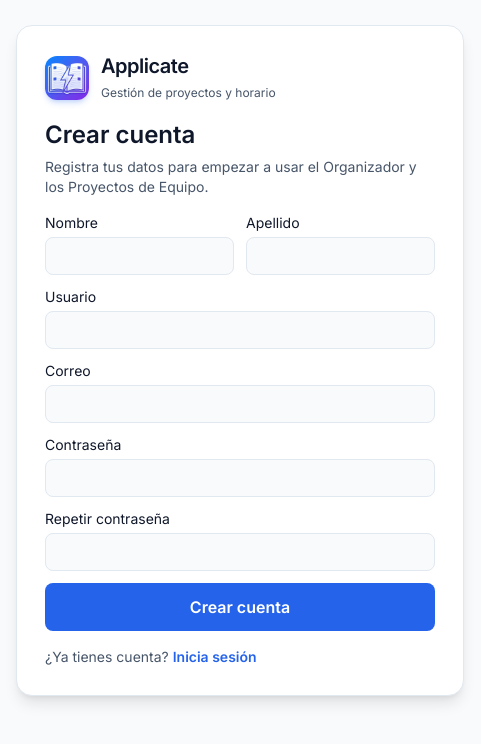
RegisterPage › muestra el error devuelto por describeError en role='alert' si register falla
Type "Matías" into the field labelled "Nombre" at (140, 256), box [45,236,234,274]
Type "González" into the field labelled "Apellido" at (340, 256), box [246,236,435,274]
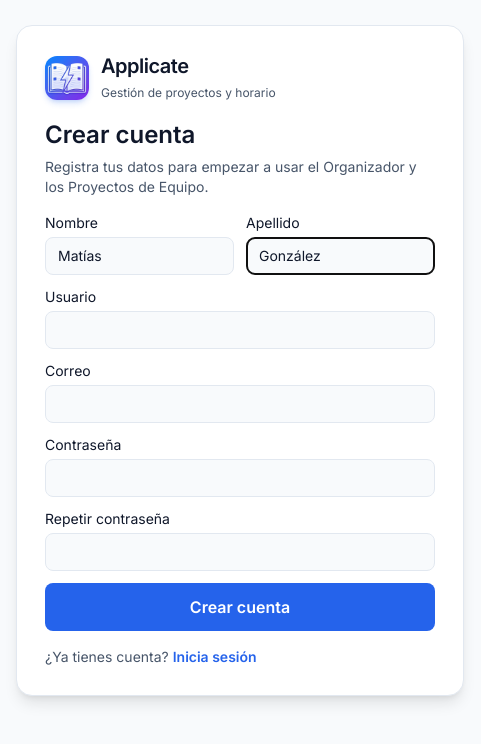
Type "mgonzalez" into the field labelled "Usuario" at (240, 330), box [45,310,435,348]
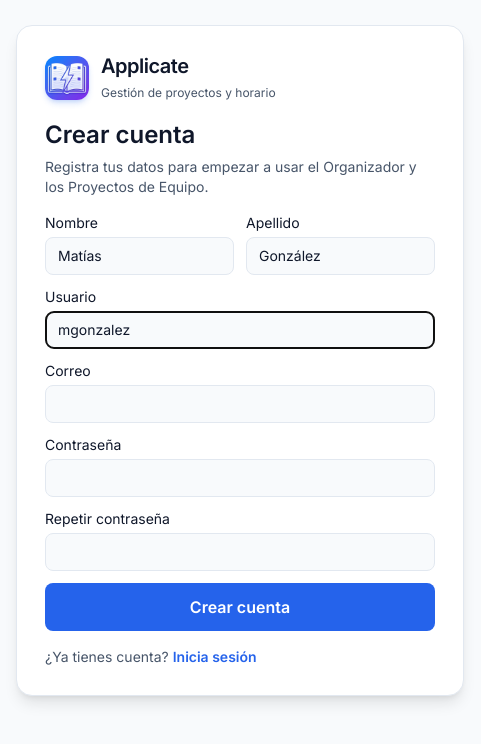
Type "mgonzalez@uc.cl" into the field labelled "Correo" at (240, 404), box [45,384,435,422]
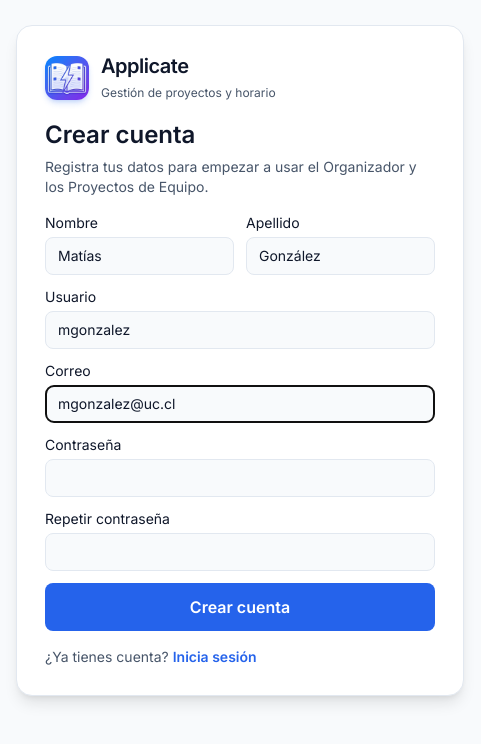
Type "ClaveSegura1" into the password field labelled "Contraseña" at (240, 478), box [45,458,435,496]
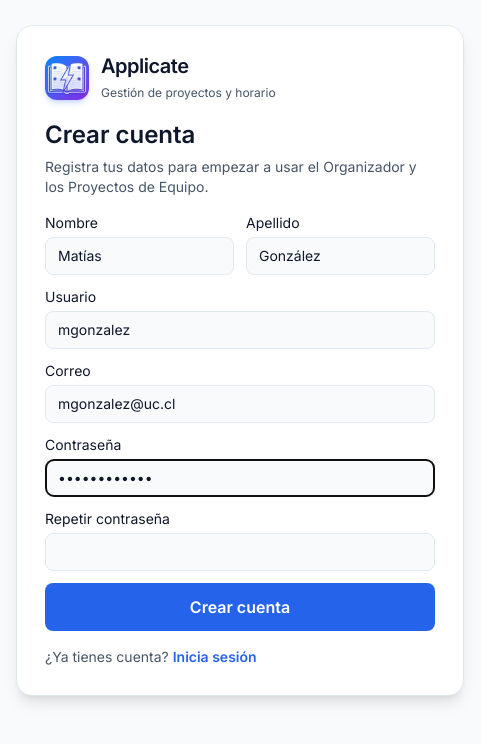
Type "ClaveSegura1" into the password field labelled "Repetir contraseña" at (240, 552), box [45,532,435,570]
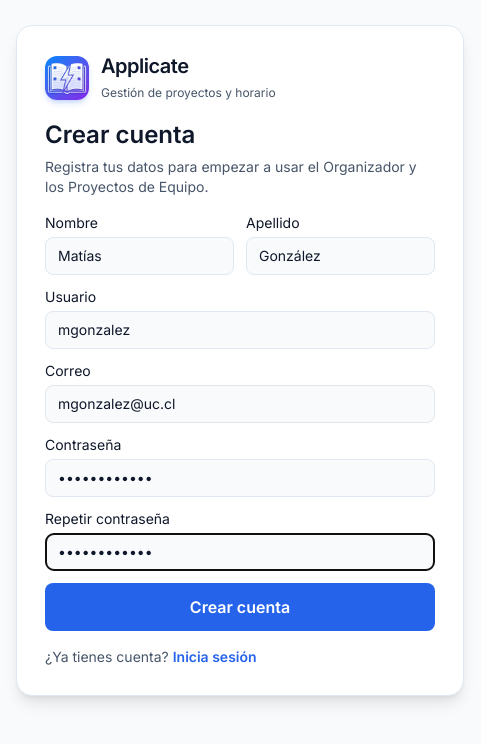
Click the button "Crear cuenta" at (240, 606), box [45,582,435,630]
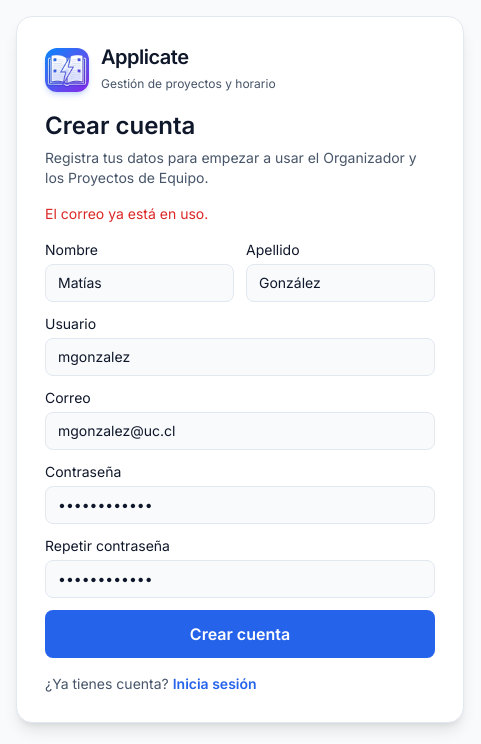
Result: the message reads "El correo ya está en uso." at [45,205,208,222]
